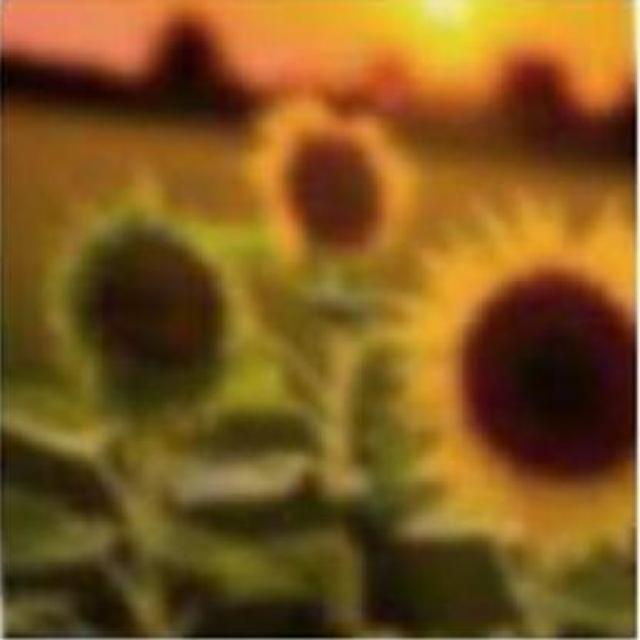sunflower: (388, 196, 637, 574), (244, 88, 417, 271)
